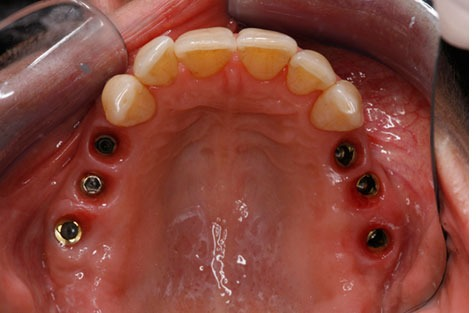ULCI_healthy: (237, 28, 296, 80)
ULC_healthy: (312, 84, 364, 128)
ULLI_healthy: (289, 52, 335, 91)
URCI_healthy: (178, 28, 237, 74)
URC_healthy: (99, 73, 156, 123)
URLI_healthy: (136, 40, 177, 83)
